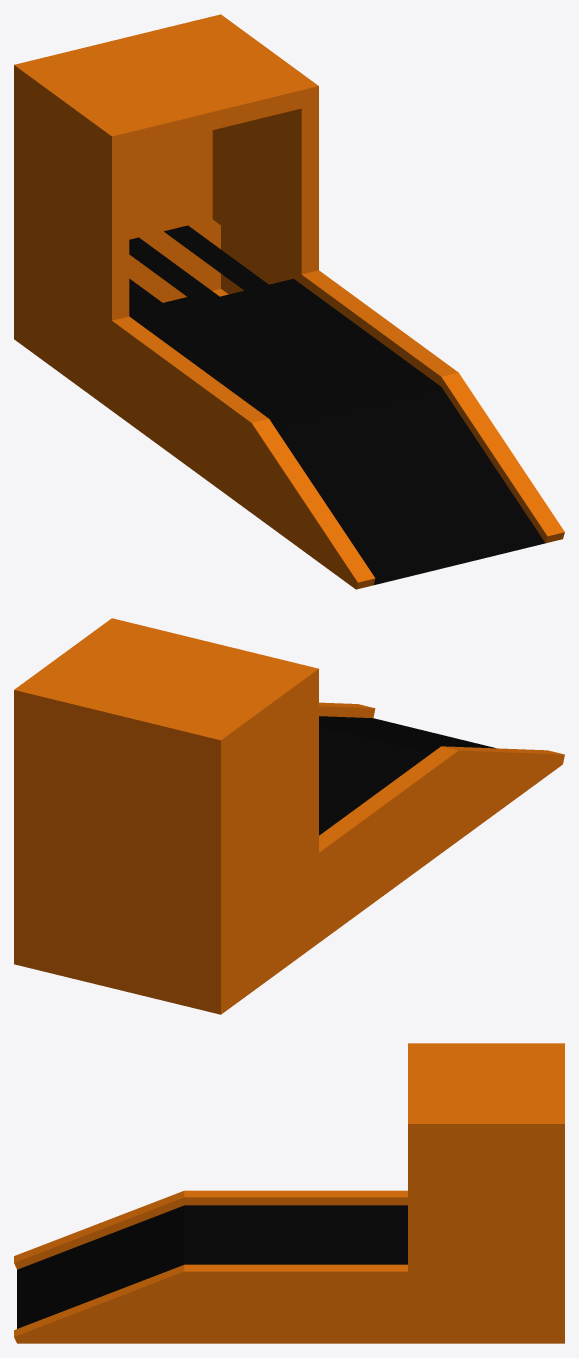
Rendered from convenyorpainted.glb.
3 views of the same model, one above another, from view 1: azimuth 30°, elevation 25°; view 2: azimuth 150°, elevation 25°; view 3: azimuth 270°, elevation 25° (orthographic). The views are drawn at different scales.
Parts seen in each view (by area): view 1: Cube.009; view 2: Cube.009; view 3: Cube.009.
Boxes of the visible parts, x1=… form: Cube.009: x1=14, y1=14, x2=564, y2=589; Cube.009: x1=14, y1=618, x2=564, y2=1014; Cube.009: x1=14, y1=1043, x2=564, y2=1343.
Bounding box in the file's own units: 12.65 × 16.02 × 36.41.
